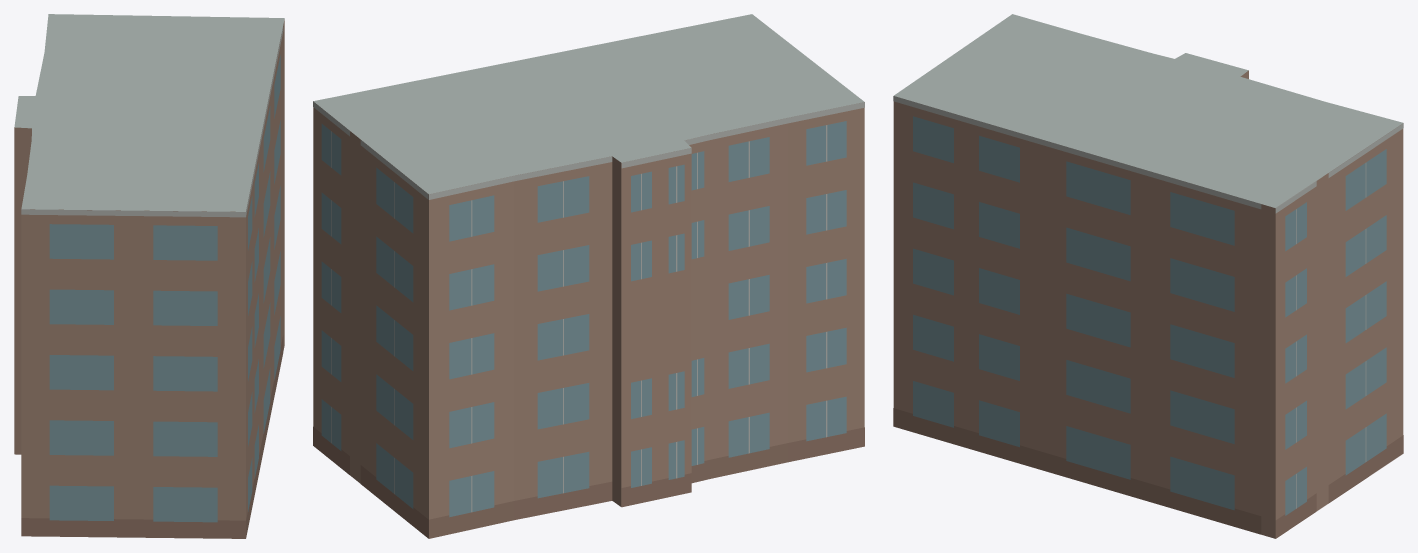
File: survey-upis-32626926.glb
3 renders of one model, left to right at view 1: azimuth 30°, elevation 25°; view 2: azimuth 150°, elevation 25°; view 3: azimuth 270°, elevation 25°, orthographic. The views are drawn at different scales.
Visible parts, largest first — view 1: survey-upis-32626926.tmp; view 2: survey-upis-32626926.tmp; view 3: survey-upis-32626926.tmp.
Part boxes in pixels (x1,y1,x2,y2): survey-upis-32626926.tmp: (14, 14, 284, 538); survey-upis-32626926.tmp: (313, 14, 864, 538); survey-upis-32626926.tmp: (893, 14, 1403, 538).
Size of the model in its own units: 18.52 by 14.7 by 20.55.
